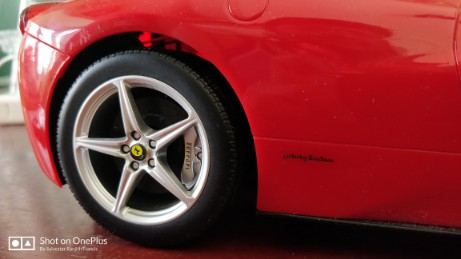aligned_wheel: (57, 50, 257, 242)
